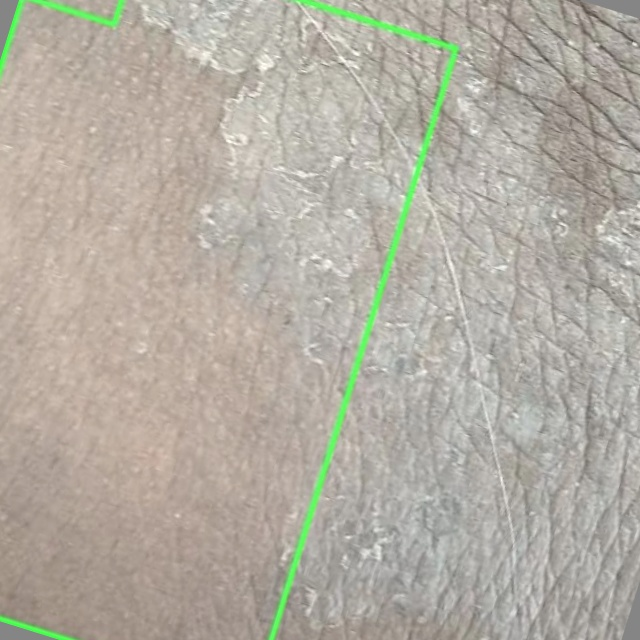Eczema: (0, 0, 456, 639)
